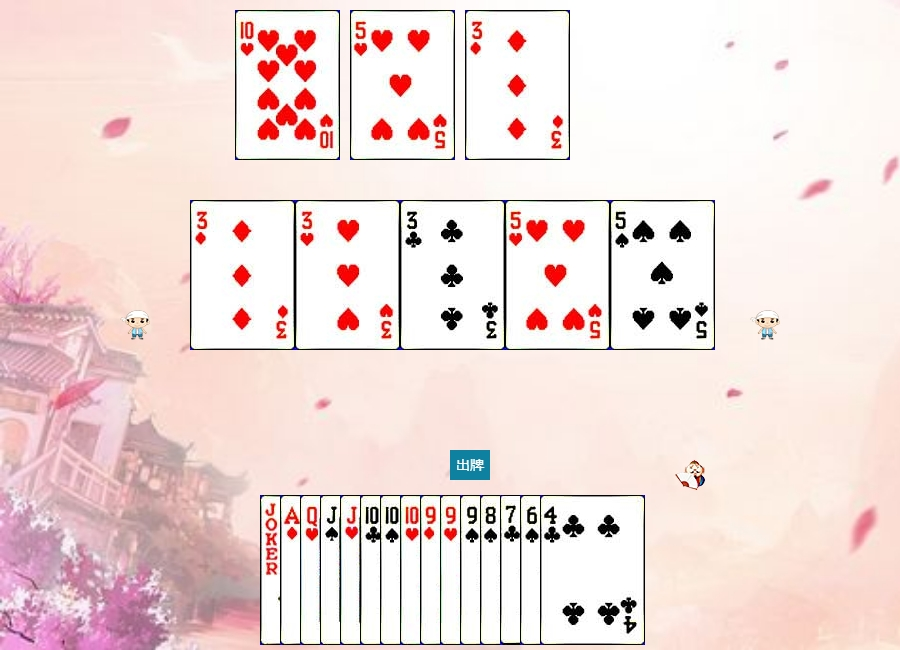10~2: (360, 495, 465, 645)
10~3: (235, 10, 340, 160), (400, 495, 505, 645)
10~4: (380, 495, 485, 645)
11~3: (340, 495, 445, 645)
11~4: (320, 495, 425, 645)
12~3: (300, 495, 405, 645)
14~1: (280, 495, 385, 645)
18~4: (260, 495, 365, 645)
3~1: (465, 10, 570, 160), (190, 200, 295, 350)
3~2: (400, 200, 505, 350)
3~3: (295, 200, 400, 350)
4~2: (540, 495, 645, 645)
5~3: (350, 10, 455, 160), (505, 200, 610, 350)
5~4: (610, 200, 715, 350)
6~4: (520, 495, 625, 645)
7~2: (500, 495, 605, 645)
8~4: (480, 495, 585, 645)
9~1: (420, 495, 525, 645)
9~3: (440, 495, 545, 645)
9~4: (460, 495, 565, 645)
